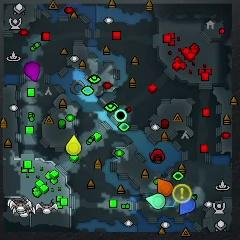Other: (172, 183, 191, 203)
p1: (179, 197, 196, 215)
p2: (147, 194, 165, 208)
p2Clone: (115, 109, 127, 122)
p3: (24, 61, 42, 81)
p4: (66, 135, 82, 155)
p5: (157, 179, 173, 196)
